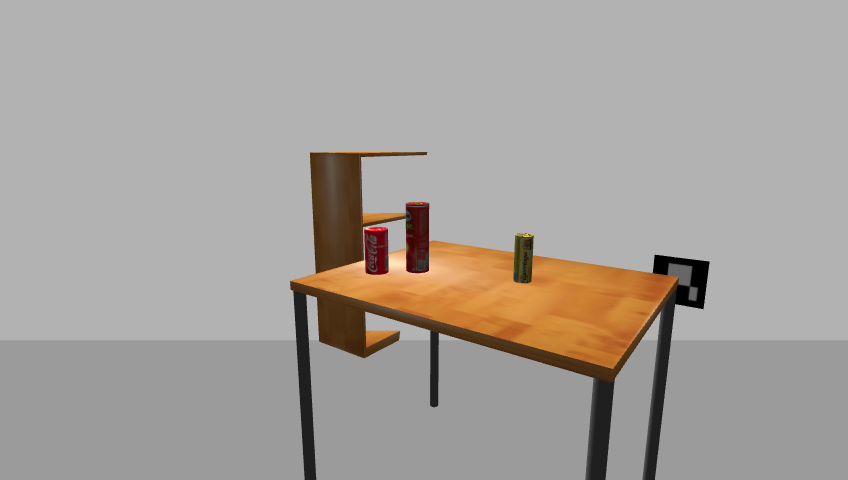aruco marker: (647, 253, 714, 311)
biscuits pack: (512, 233, 535, 285)
bookshelf: (305, 148, 432, 364)
coke can: (362, 226, 390, 276)
dinner table: (284, 240, 686, 480)
pringles can: (404, 201, 431, 275)
